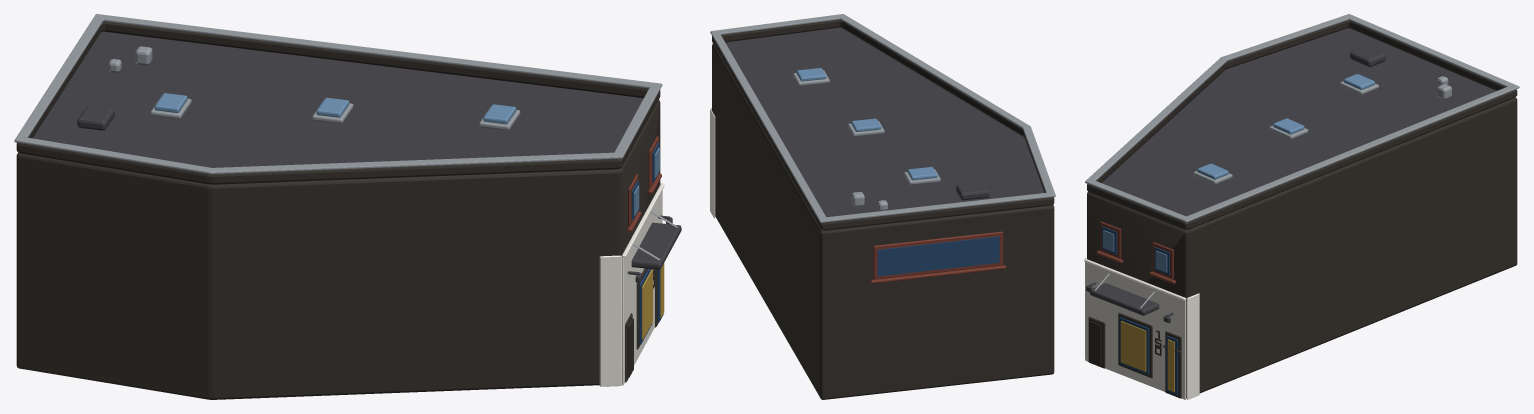
File: 150-south-park.optimized.glb
3 views of the same model, side by side, from view 1: azimuth 30°, elevation 25°; view 2: azimuth 150°, elevation 25°; view 3: azimuth 270°, elevation 25° (orthographic). The views are drawn at different scales.
Visible parts, largest first — view 1: shell, grp_Toy_ink, grp_Toy_steel, grp_Toy_white, grp_Toy_roofd, grp_Toy_glassl, grp_Toy_gold_Glow, grp_Toy_glass, grp_Toy_oxblood; view 2: shell, grp_Toy_steel, grp_Toy_ink, grp_Toy_glass, grp_Toy_oxblood, grp_Toy_glassl, grp_Toy_white, grp_Toy_roofd; view 3: shell, grp_Toy_ink, grp_Toy_steel, grp_Toy_white, grp_Toy_roofd, grp_Toy_gold_Glow, grp_Toy_glass, grp_Toy_glassl, grp_Toy_oxblood, grp_Toy_glass_Glow.
Part boxes in pixels (x1=…): shell: x1=16, y1=31, x2=660, y2=399; grp_Toy_ink: x1=16, y1=21, x2=660, y2=382; grp_Toy_steel: x1=14, y1=14, x2=677, y2=260; grp_Toy_white: x1=599, y1=182, x2=664, y2=386; grp_Toy_roofd: x1=77, y1=105, x2=681, y2=283; grp_Toy_glassl: x1=154, y1=93, x2=516, y2=124; grp_Toy_gold_Glow: x1=642, y1=263, x2=664, y2=339; grp_Toy_glass: x1=631, y1=142, x2=663, y2=344; grp_Toy_oxblood: x1=627, y1=136, x2=661, y2=231; shell: x1=712, y1=27, x2=1054, y2=399; grp_Toy_steel: x1=710, y1=14, x2=1055, y2=222; grp_Toy_ink: x1=712, y1=19, x2=1054, y2=230; grp_Toy_glass: x1=877, y1=236, x2=999, y2=276; grp_Toy_oxblood: x1=870, y1=231, x2=1006, y2=283; grp_Toy_glassl: x1=796, y1=68, x2=937, y2=180; grp_Toy_white: x1=710, y1=108, x2=715, y2=218; grp_Toy_roofd: x1=956, y1=182, x2=989, y2=200; shell: x1=1087, y1=28, x2=1517, y2=398; grp_Toy_ink: x1=1087, y1=20, x2=1517, y2=398; grp_Toy_steel: x1=1085, y1=14, x2=1519, y2=308; grp_Toy_white: x1=1084, y1=257, x2=1199, y2=399; grp_Toy_roofd: x1=1086, y1=46, x2=1385, y2=323; grp_Toy_gold_Glow: x1=1120, y1=321, x2=1174, y2=392; grp_Toy_glass: x1=1101, y1=226, x2=1178, y2=395; grp_Toy_glassl: x1=1197, y1=74, x2=1374, y2=179; grp_Toy_oxblood: x1=1096, y1=221, x2=1175, y2=283; grp_Toy_glass_Glow: x1=1103, y1=230, x2=1167, y2=272.
Bounding box in the file's own units: 19.85 × 8 × 17.59.
